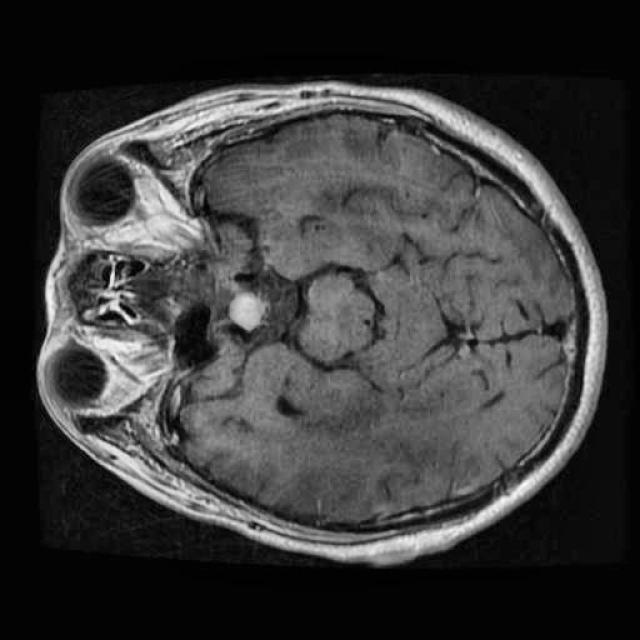Tumor: (221, 280, 279, 345)
